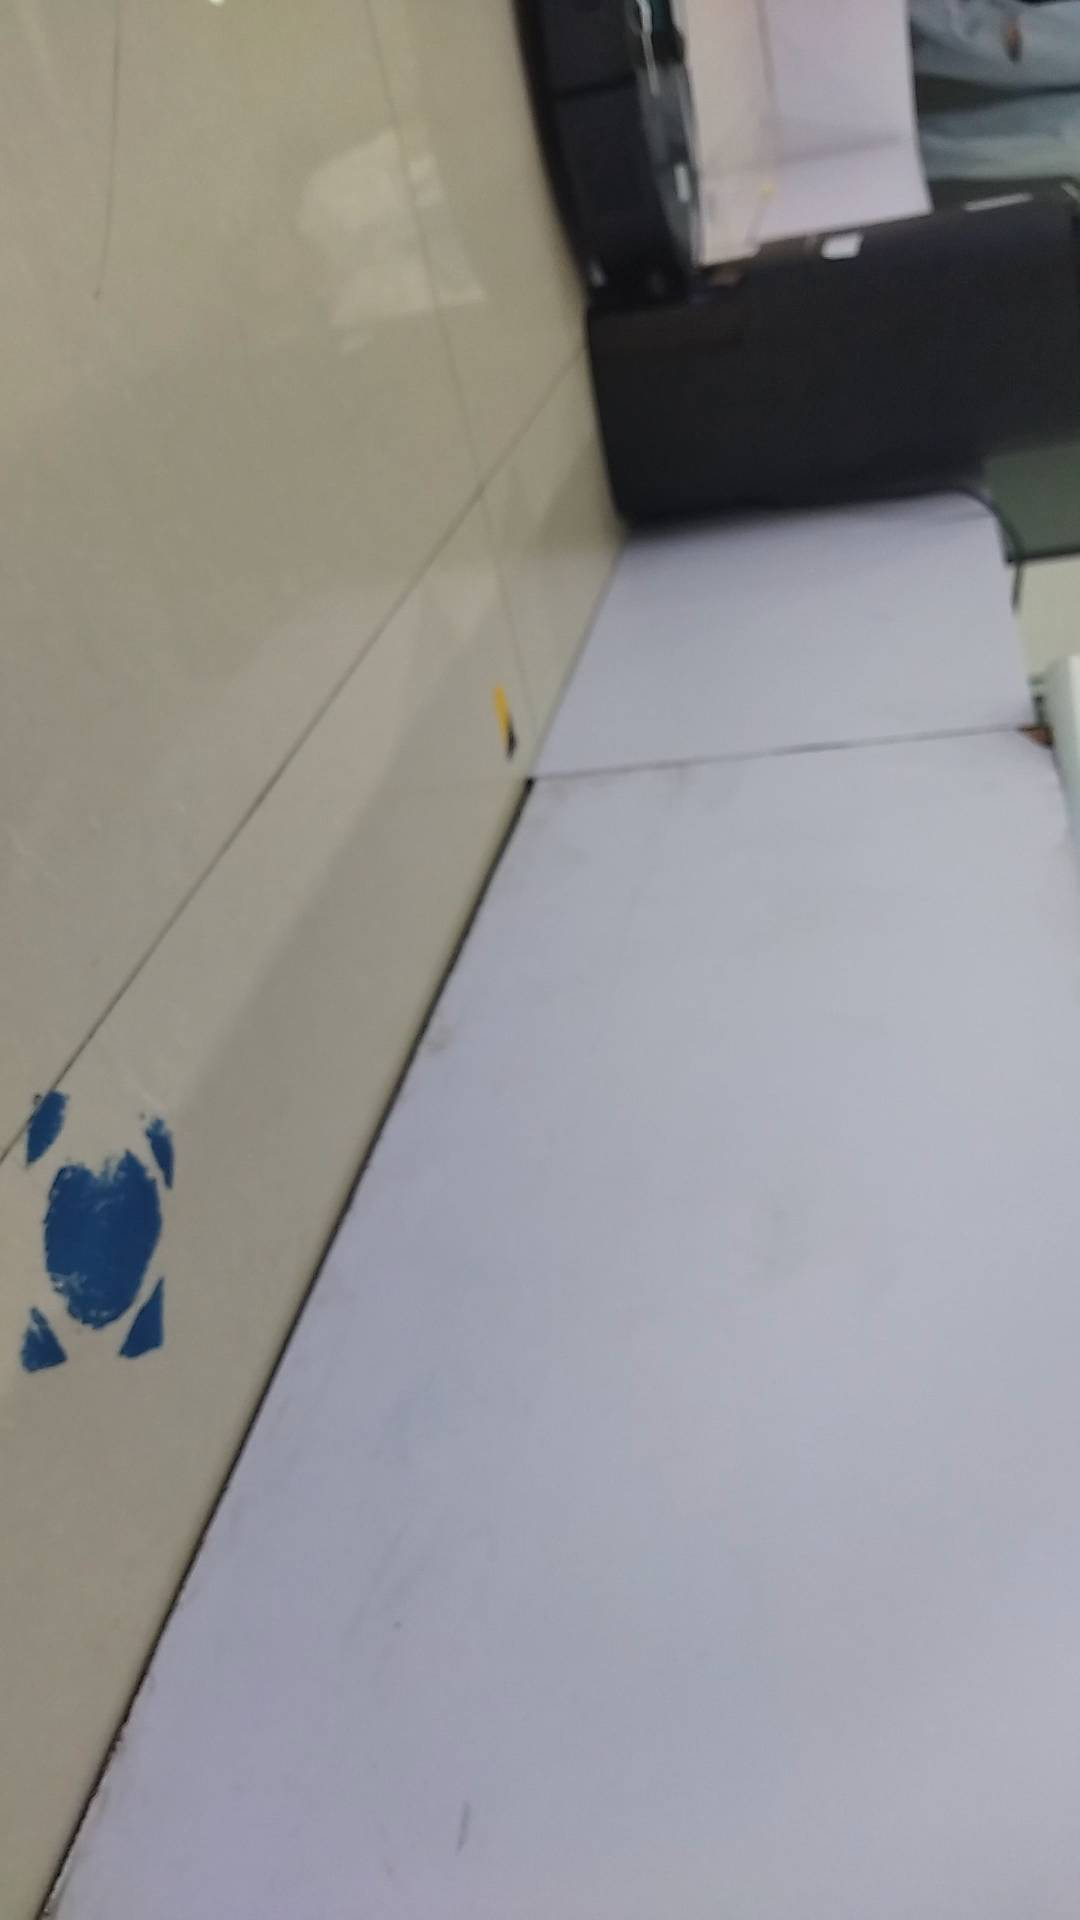dust collecting barrel: (582, 182, 1080, 549)
